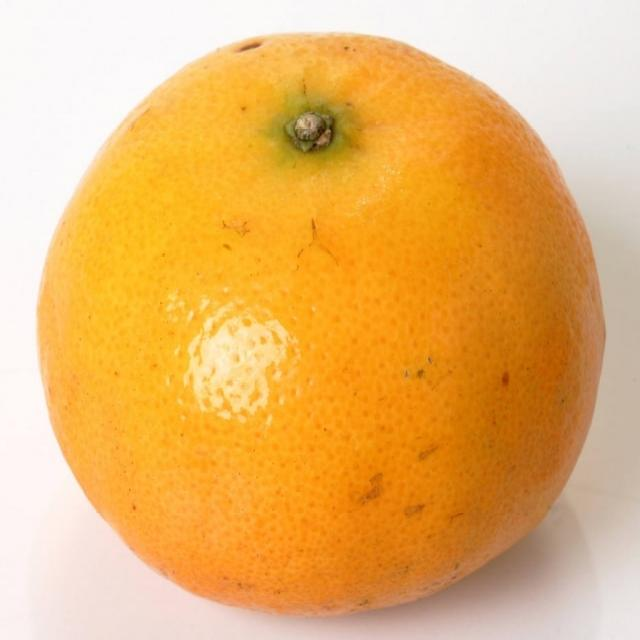Orange: (35, 32, 616, 618)
